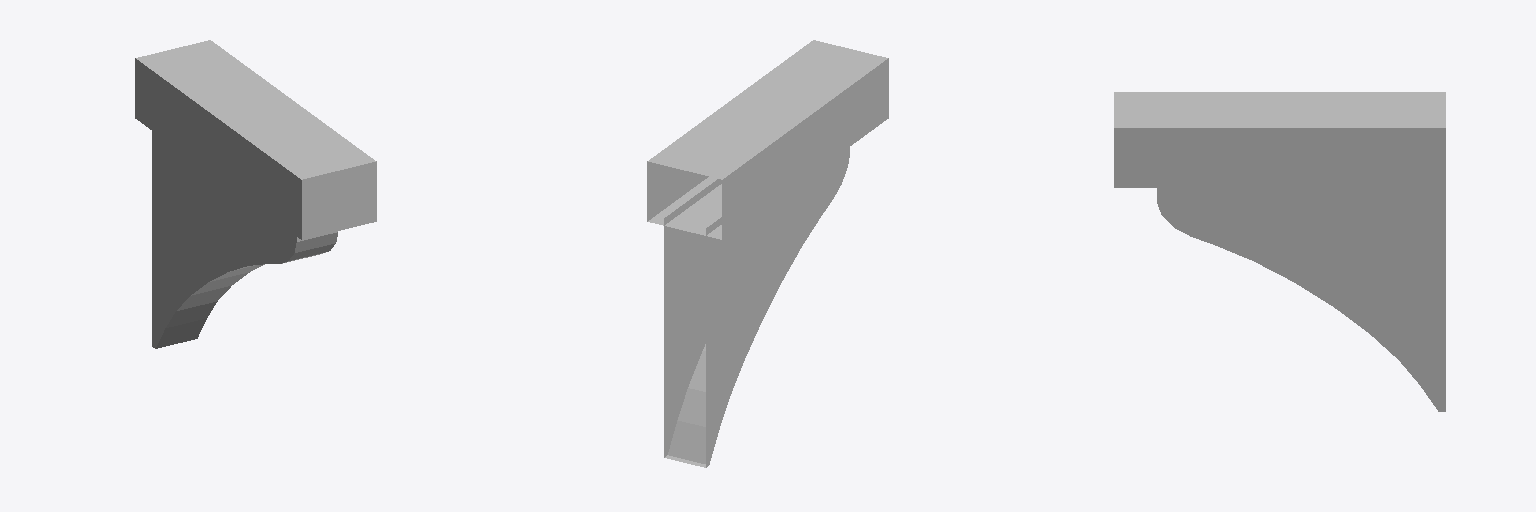
File: Roof_Support2.obj
The picture shows the model from 3 angles: view 1: azimuth 30°, elevation 25°; view 2: azimuth 150°, elevation 25°; view 3: azimuth 270°, elevation 25°; orthographic projection.
Parts seen in each view (by area): view 1: Roof_Support2; view 2: Roof_Support2; view 3: Roof_Support2.
Boxes of the visible parts, <box> form: Roof_Support2: <box>135,40,376,348</box>; Roof_Support2: <box>647,40,888,467</box>; Roof_Support2: <box>1114,92,1445,411</box>.
Size of the model in its own units: 0.1997 by 0.7429 by 0.7651.